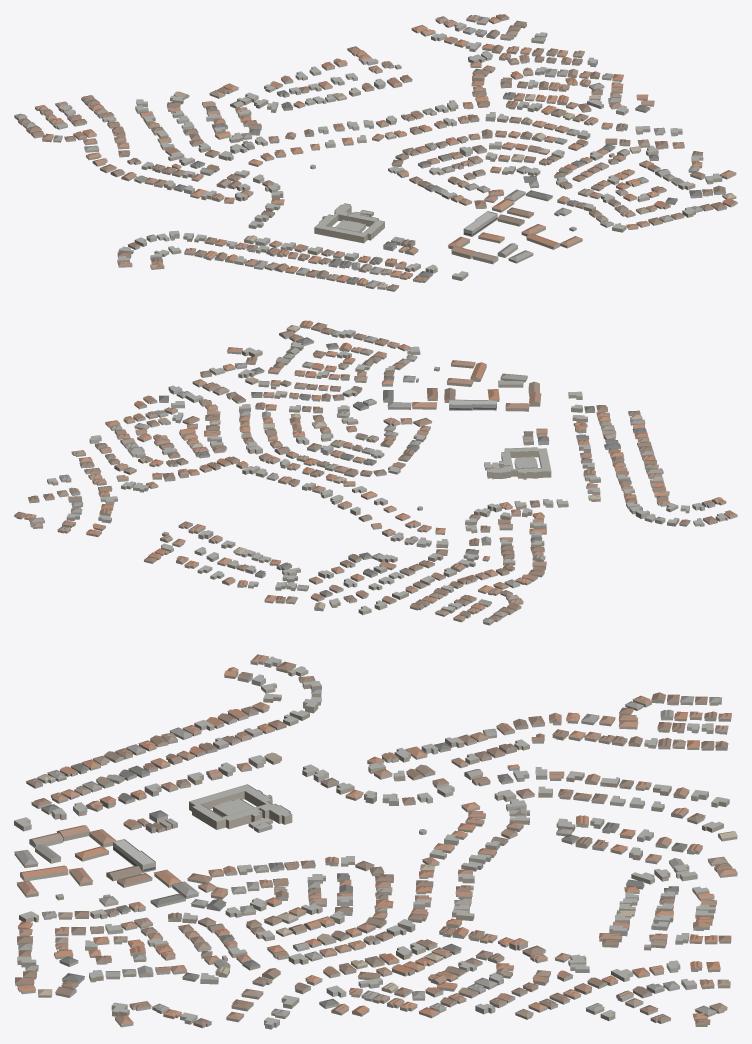
The model's file is buildings_r7_c6.glb.
3 renders of one model, top to bottom at view 1: azimuth 30°, elevation 25°; view 2: azimuth 150°, elevation 25°; view 3: azimuth 270°, elevation 25°, orthographic. The views are drawn at different scales.
Parts seen in each view (by area): view 1: buildings_r7_c6; view 2: buildings_r7_c6; view 3: buildings_r7_c6.
Boxes of the visible parts, left/top/right/bottom form: buildings_r7_c6: left=14, top=14, right=737, bottom=291; buildings_r7_c6: left=14, top=320, right=737, bottom=625; buildings_r7_c6: left=14, top=654, right=737, bottom=1029.
Bounding box in the file's own units: 965 × 51.33 × 808.
